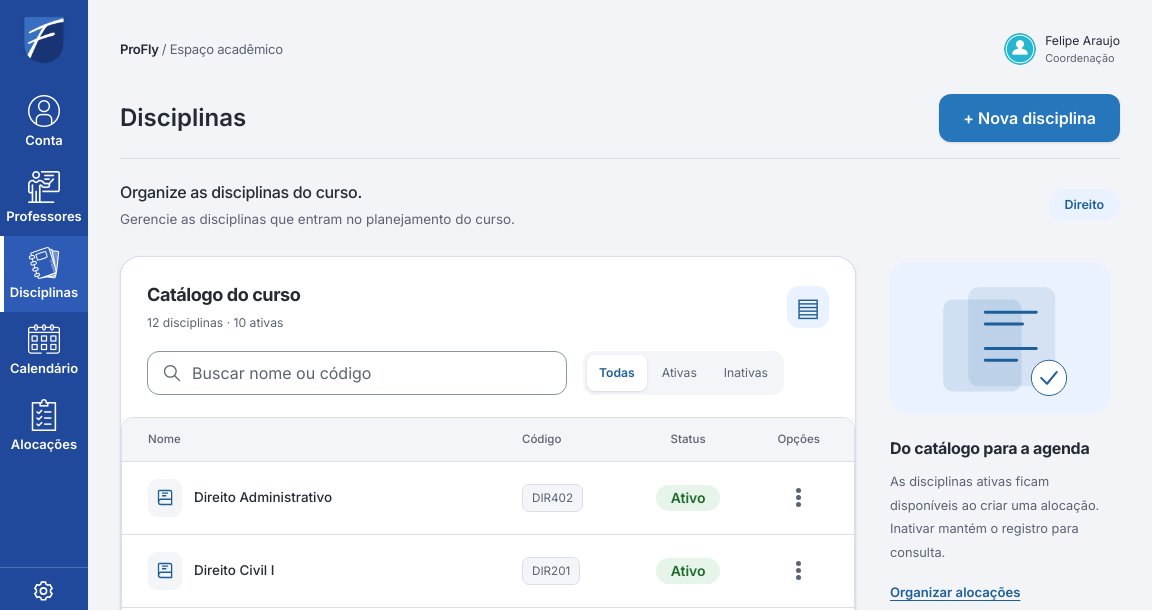
Test: Disciplinas › formulário › preserva o formulario e nao confirma cadastro quando a gravacao falha
Expected: the text "Direito Civil I" is shown, [148, 552, 274, 590]
Click the button "+ Nova disciplina".
click(1030, 118)  # box [939, 94, 1120, 142]
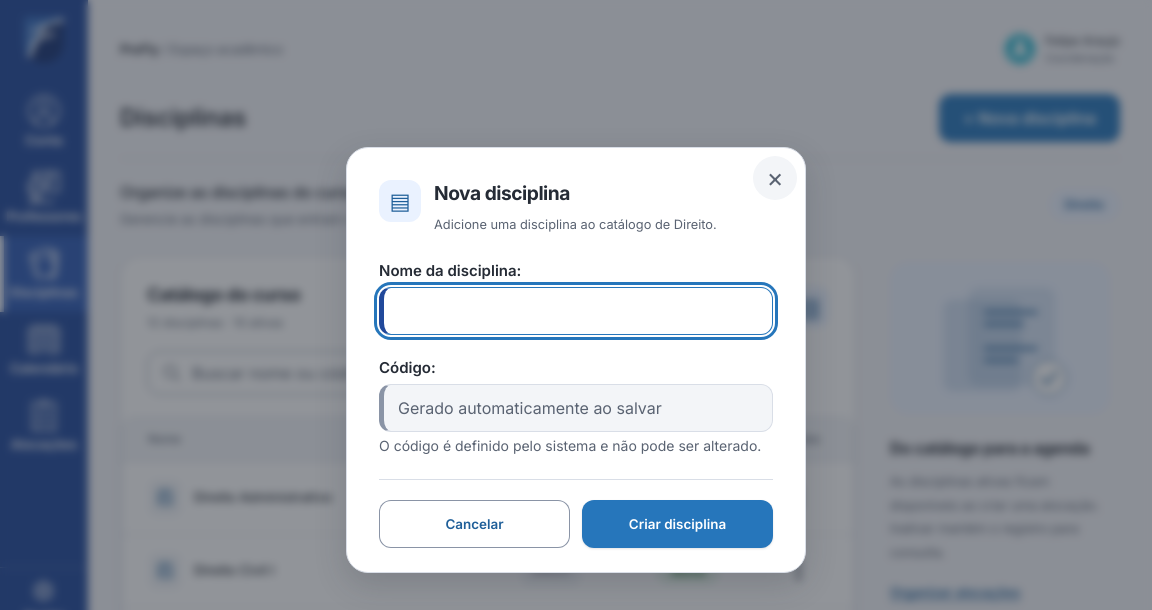
Type "Disciplina de teste" into the field labelled "Nome da disciplina:".
click(578, 310); type("Disciplina de teste")  # box [384, 288, 772, 334]
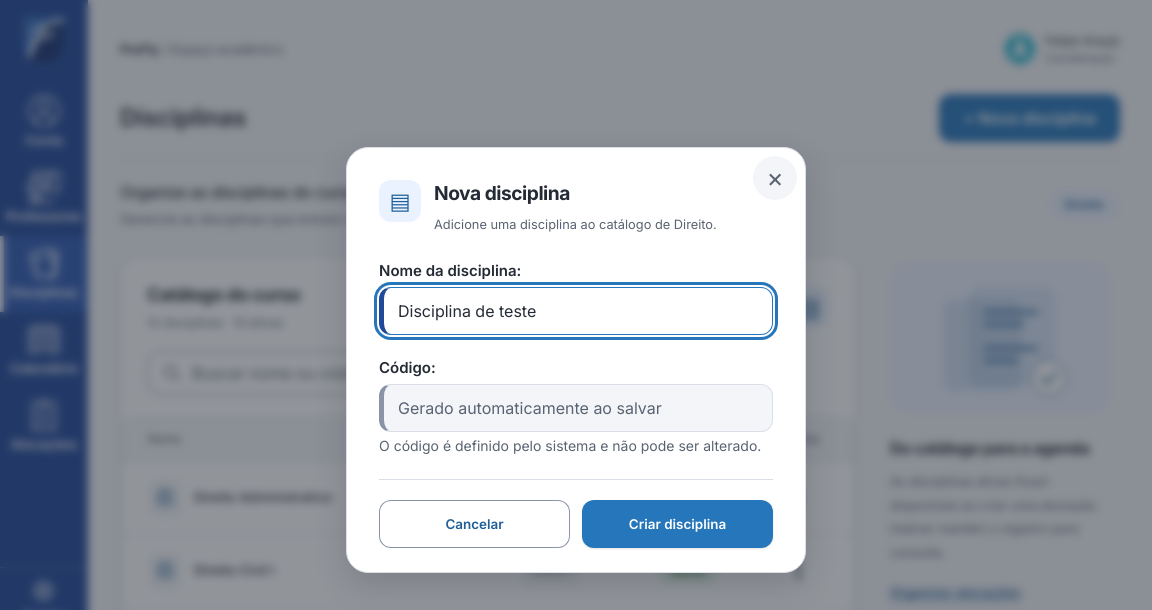
Click the button "Criar disciplina".
click(678, 524)  # box [582, 500, 773, 548]
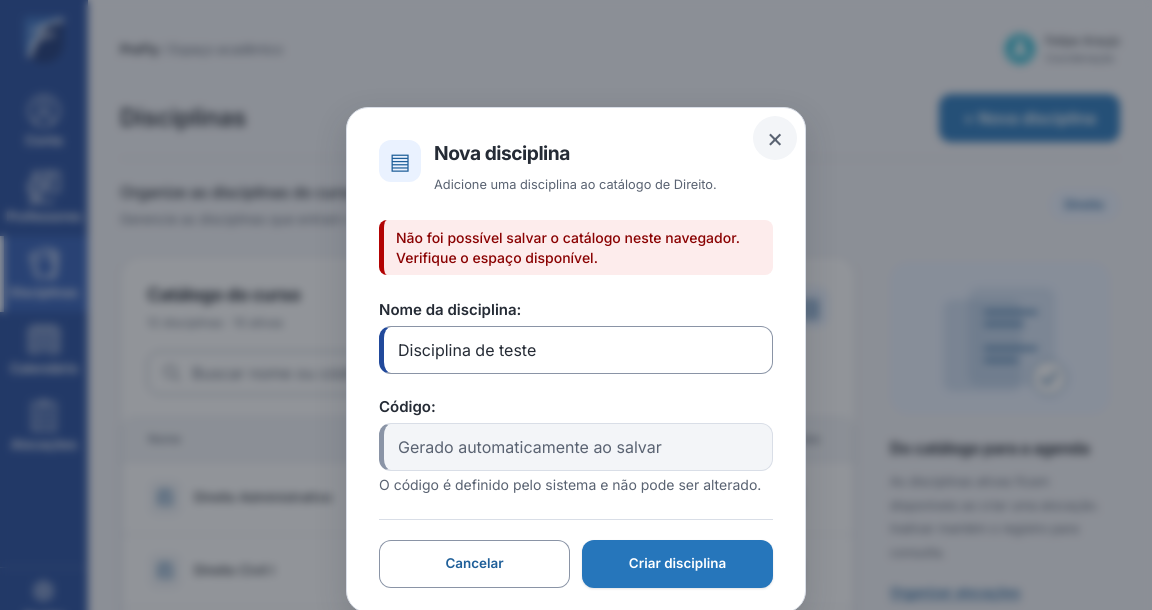
Result: the button "Criar disciplina" is enabled at [582, 540, 773, 588]
Result: the message shows "Não foi possível salvar o catálogo" at [396, 229, 740, 266]
